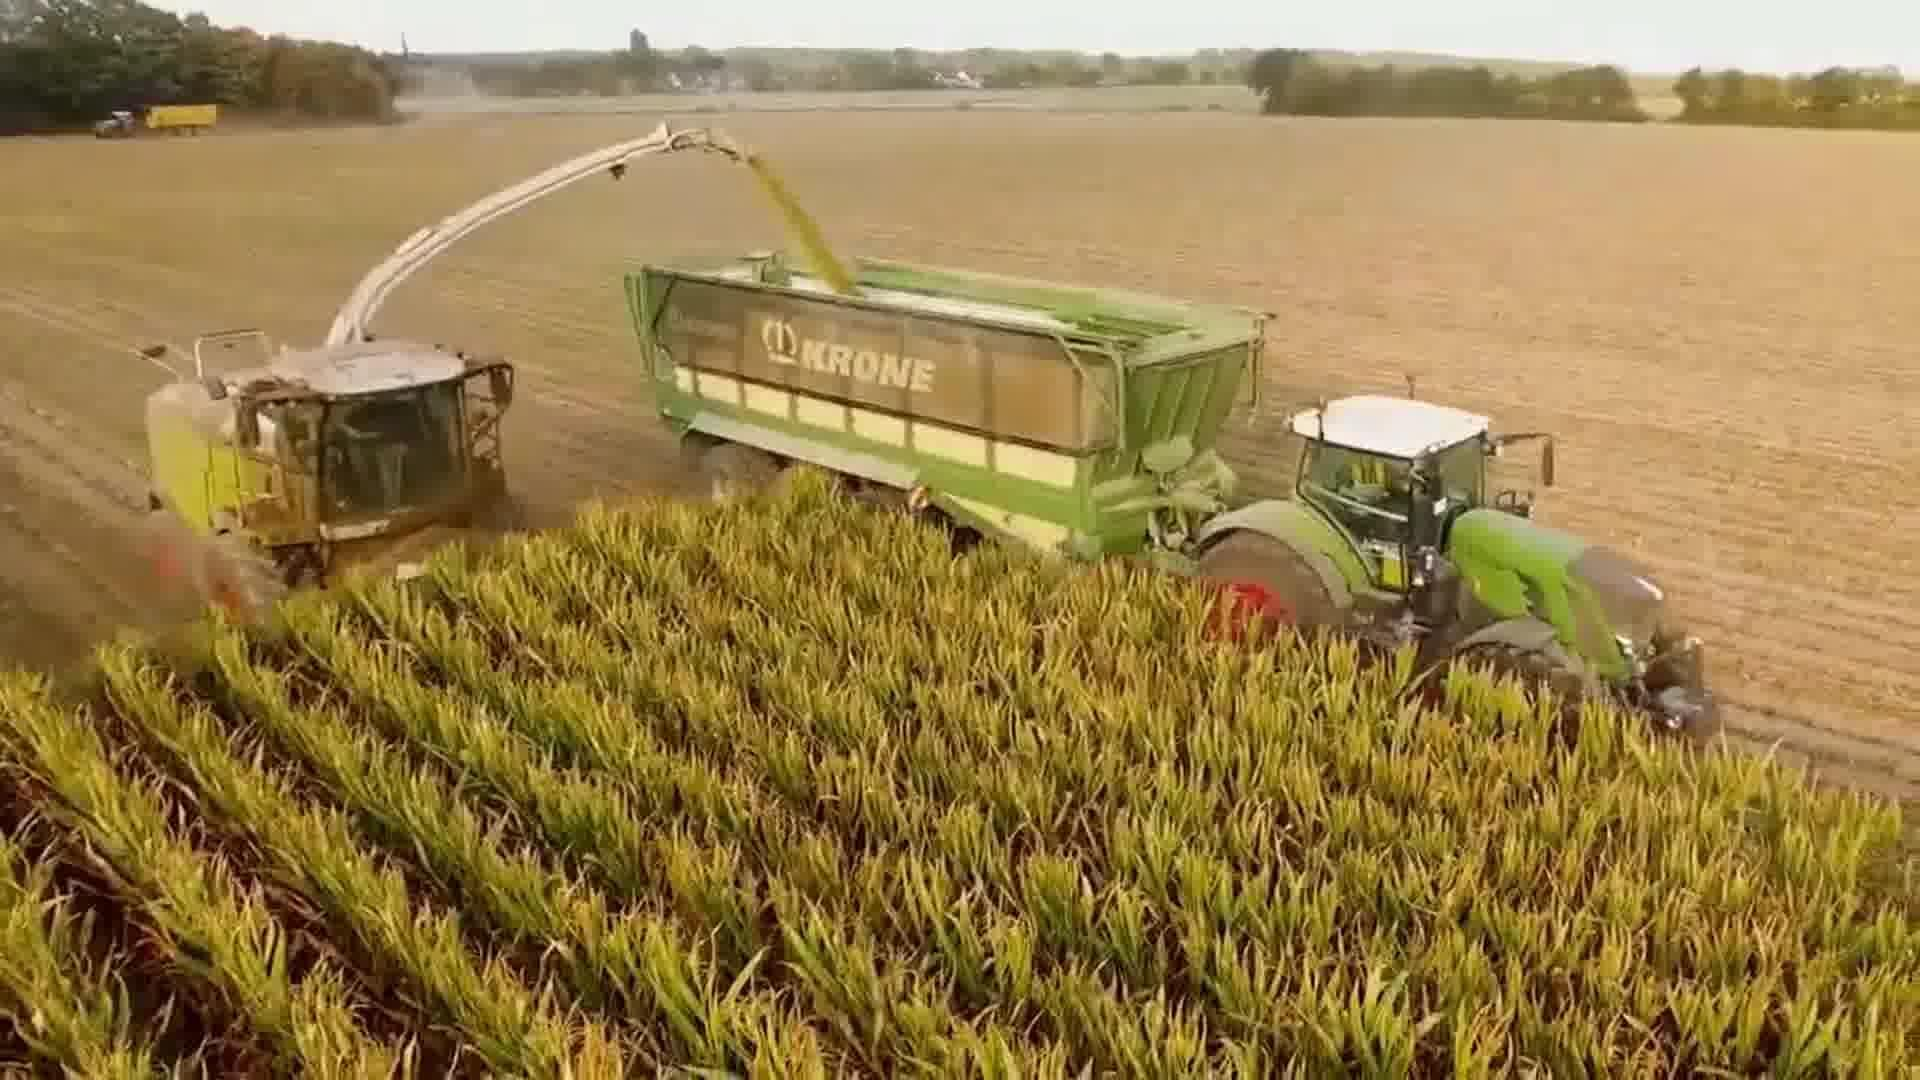combine harvester: (124, 113, 761, 638)
tractor: (1182, 380, 1726, 765), (91, 104, 136, 141)
trailer: (616, 227, 1274, 603), (142, 99, 223, 141)
